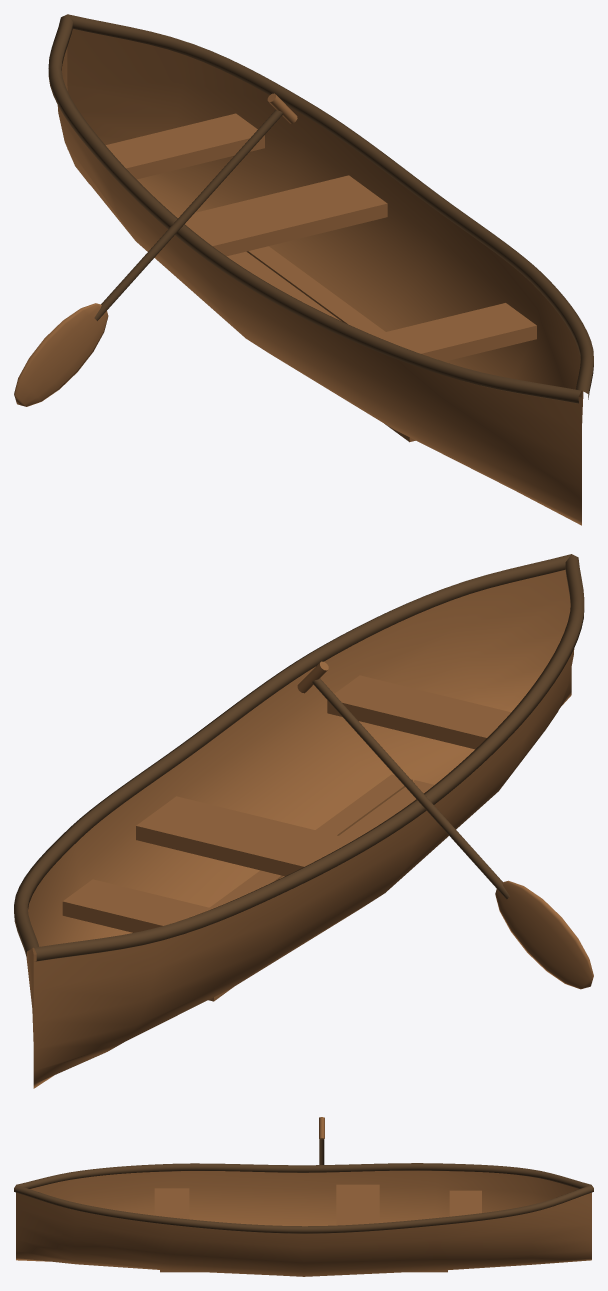
The model's file is canoe.glb.
3 renders of one model, top to bottom at view 1: azimuth 30°, elevation 25°; view 2: azimuth 150°, elevation 25°; view 3: azimuth 270°, elevation 25°, orthographic. The views are drawn at different scales.
Parts seen in each view (by area): view 1: canoe, canoe.single-blade, kayak.paddle; view 2: canoe, canoe.single-blade, kayak.paddle; view 3: canoe, kayak.paddle.
Boxes of the visible parts, left/top/right/bottom form: canoe: left=48, top=14, right=593, bottom=525; canoe.single-blade: left=14, top=303, right=108, bottom=406; kayak.paddle: left=94, top=93, right=297, bottom=320; canoe: left=14, top=554, right=584, bottom=1088; canoe.single-blade: left=495, top=880, right=593, bottom=989; kayak.paddle: left=297, top=661, right=509, bottom=899; canoe: left=14, top=1163, right=593, bottom=1276; kayak.paddle: left=319, top=1117, right=324, bottom=1164.
Size of the model in its own units: 2.22 by 1.33 by 4.83.
